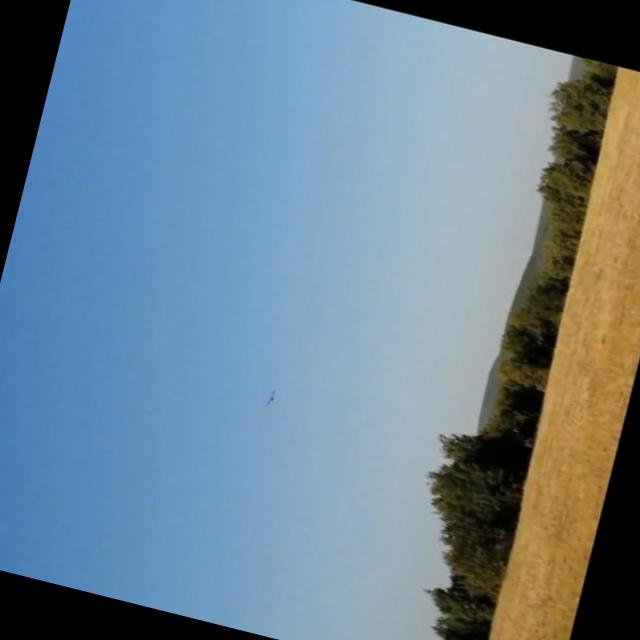UAV: (256, 382, 286, 412)
